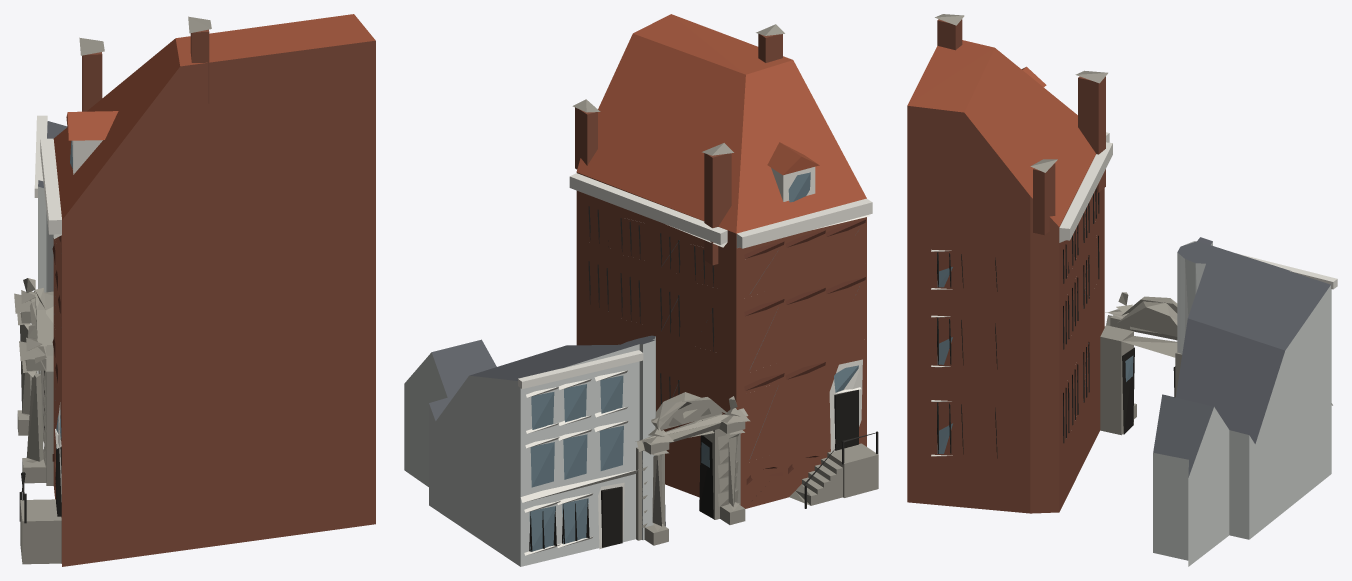
Rendered from oudemanhuispoort.lod1.glb.
3 renders of one model, left to right at view 1: azimuth 30°, elevation 25°; view 2: azimuth 150°, elevation 25°; view 3: azimuth 270°, elevation 25°, orthographic. The views are drawn at different scales.
Parts seen in each view (by area): view 1: oudemanhuispoort; view 2: oudemanhuispoort; view 3: oudemanhuispoort.
Boxes of the visible parts, box(x1,y1,x2,y2) form: oudemanhuispoort: box(14, 14, 375, 566); oudemanhuispoort: box(404, 14, 878, 566); oudemanhuispoort: box(907, 14, 1337, 566).
Size of the model in its own units: 17.1 by 18.19 by 16.63.
